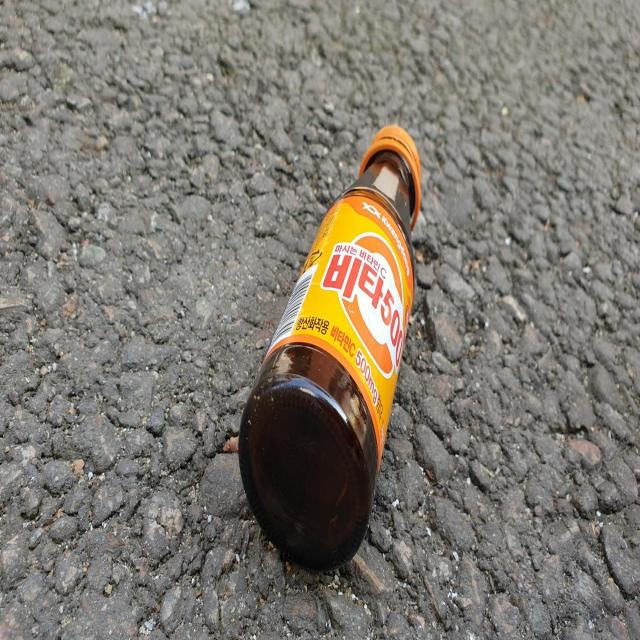glass: (239, 125, 420, 570)
